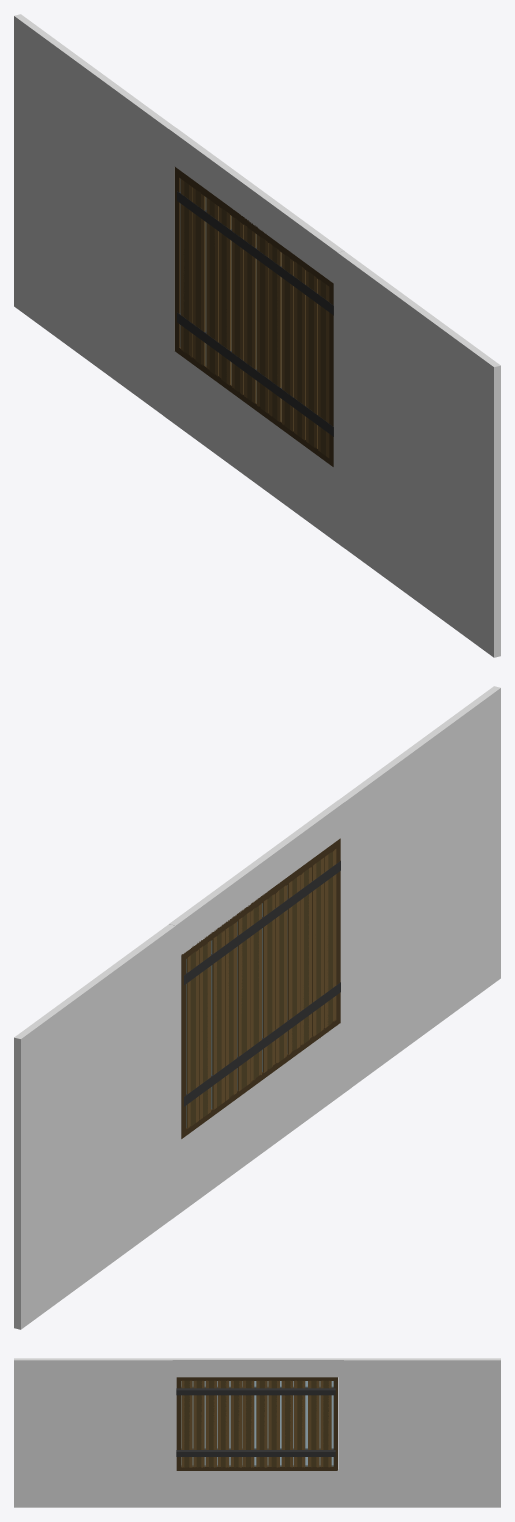
Rendered from windows2.fbx.
3 views of the same model, one above another, from view 1: azimuth 30°, elevation 25°; view 2: azimuth 150°, elevation 25°; view 3: azimuth 270°, elevation 25° (orthographic). The views are drawn at different scales.
Parts seen in each view (by area): view 1: Cube.003, Cube.010, Cube.016, Cube.014, Cube.009, Cube.012, Cube.015, Cube.004, Cube.001, Cube.002, Cube.008, Cube.011 (+5 smaller); view 2: Cube.003, Cube.010, Cube.013, Cube.015, Cube.008, Cube.011, Cube.001, Cube.004, Cube.017, Cube.009, Cube.016, Cube.014 (+5 smaller); view 3: Cube.003, Cube.010, Cube.005, Cube.007, Cube.006, Cube.011, Cube.008, Cube.009, Cube.014, Cube.004, Cube.001, Cube.012 (+5 smaller).
Part boxes in pixels (<box>): Cube.003: <box>14,14,500,657</box>; Cube.010: <box>174,167,333,466</box>; Cube.016: <box>192,188,206,365</box>; Cube.014: <box>218,207,231,385</box>; Cube.009: <box>269,243,281,422</box>; Cube.012: <box>244,224,256,403</box>; Cube.015: <box>206,198,218,376</box>; Cube.004: <box>318,279,329,457</box>; Cube.001: <box>306,270,317,448</box>; Cube.002: <box>294,261,305,440</box>; Cube.008: <box>282,253,293,431</box>; Cube.011: <box>257,235,268,413</box>; Cube.003: <box>14,686,500,1329</box>; Cube.010: <box>181,838,340,1138</box>; Cube.013: <box>237,912,250,1091</box>; Cube.015: <box>211,930,224,1109</box>; Cube.008: <box>287,875,300,1054</box>; Cube.011: <box>262,894,275,1072</box>; Cube.001: <box>312,857,324,1036</box>; Cube.004: <box>324,849,336,1028</box>; Cube.017: <box>186,949,198,1128</box>; Cube.009: <box>275,885,287,1063</box>; Cube.016: <box>199,940,210,1119</box>; Cube.014: <box>225,922,236,1100</box>; Cube.003: <box>14,1358,500,1507</box>; Cube.010: <box>176,1377,337,1470</box>; Cube.005: <box>181,1381,333,1466</box>; Cube.007: <box>176,1387,335,1395</box>; Cube.006: <box>176,1448,335,1456</box>; Cube.011: <box>242,1380,254,1467</box>; Cube.008: <box>217,1380,229,1467</box>; Cube.009: <box>230,1380,242,1467</box>; Cube.014: <box>281,1380,293,1467</box>; Cube.004: <box>181,1380,192,1467</box>; Cube.001: <box>193,1380,204,1467</box>; Cube.012: <box>256,1380,267,1467</box>.
Size of the model in its own units: 52.24 by 1004 by 3003.
